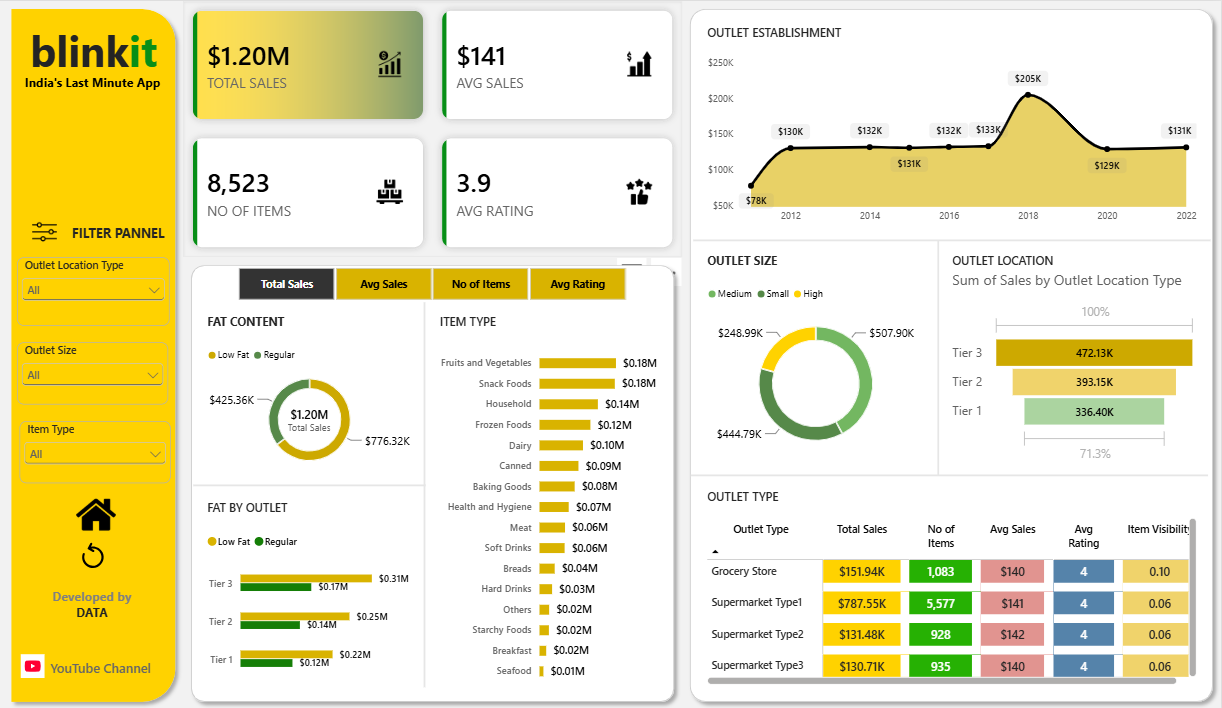

This screenshot's page, from the dashboard's own definition file:
{"tool":"powerbi","page":{"name":"Page 1","canvas":[1410,810],"ordinal":0},"visuals":[{"type":"shape","box":[18.6,0,205.7,810],"z":0},{"type":"textbox","box":[35.7,22.9,172.6,72],"z":1000},{"type":"textbox","box":[31.4,82.9,178.6,24],"z":2000},{"type":"cardVisual","fields":{"Data":["BlinkIT Grocery Data.Total Sales","BlinkIT Grocery Data.Average Sales","BlinkIT Grocery Data.No of Items","BlinkIT Grocery Data.Average Rating"]},"box":[224.3,0,570,292.9],"z":3000},{"type":"shape","box":[224.3,292.9,570,517.1],"z":4000},{"type":"donutChart","title":"FAT CONTENT","fields":{"Y":["BlinkIT Grocery Data.Total Sales"],"Category":["BlinkIT Grocery Data.Item Fat Content"]},"box":[235.7,342.9,265.7,212.9],"z":5000},{"type":"slicer","fields":{"Values":["Matrices.Matrices"]},"box":[267.1,302.9,481.4,40],"z":6000},{"type":"cardVisual","fields":{"Data":["BlinkIT Grocery Data.Total Sales"]},"box":[315.7,450,105.7,58.6],"z":7000},{"type":"clusteredBarChart","title":"FAT BY OUTLET","fields":{"Y":["BlinkIT Grocery Data.Total Sales"],"Category":["BlinkIT Grocery Data.Outlet Location Type"],"Series":["BlinkIT Grocery Data.Item Fat Content"]},"box":[235.7,555.7,265.7,241.4],"z":8000},{"type":"shape","box":[235.7,542.9,265.7,21.4],"z":9000},{"type":"shape","box":[490,344.3,20,440],"z":10000},{"type":"barChart","title":"ITEM TYPE","fields":{"Y":["BlinkIT Grocery Data.Total Sales"],"Category":["BlinkIT Grocery Data.Item Type"]},"box":[501.4,342.9,280,454.3],"z":11000},{"type":"shape","box":[794.3,0,615.7,810],"z":12000},{"type":"lineChart","title":"OUTLET ESTABLISHMENT","fields":{"Y":["BlinkIT Grocery Data.Total Sales"],"Category":["BlinkIT Grocery Data.Outlet Establishment Year"]},"box":[807.1,12.9,591.4,260],"z":13000},{"type":"shape","box":[807.1,262.9,591.4,21.4],"z":14000},{"type":"donutChart","title":"OUTLET SIZE","fields":{"Y":["BlinkIT Grocery Data.Total Sales"],"Category":["BlinkIT Grocery Data.Outlet Size"]},"box":[807.1,272.9,280,270],"z":15000},{"type":"funnel","title":"OUTLET LOCATION","fields":{"Y":["Sum(BlinkIT Grocery Data.Sales)"],"Category":["BlinkIT Grocery Data.Outlet Location Type"]},"box":[1087.1,272.9,311.4,270],"z":16000},{"type":"pivotTable","title":"OUTLET TYPE","fields":{"Rows":["BlinkIT Grocery Data.Outlet Type"],"Values":["BlinkIT Grocery Data.Total Sales","BlinkIT Grocery Data.No of Items","BlinkIT Grocery Data.Avg Sales","BlinkIT Grocery Data.Avg Rating","Avg(BlinkIT Grocery Data.Item Visibility)"]},"box":[807.1,542.9,591.4,254.3],"z":17000},{"type":"shape","box":[804.3,531.4,591.4,21.4],"z":18000},{"type":"shape","box":[1074.3,274.3,25.7,268.6],"z":19000},{"type":"slicer","fields":{"Values":["BlinkIT Grocery Data.Outlet Location Type"]},"box":[34.3,292.9,174.3,78.6],"z":20000},{"type":"slicer","fields":{"Values":["BlinkIT Grocery Data.Outlet Size"]},"box":[34.3,390,172.9,71.4],"z":21000},{"type":"slicer","fields":{"Values":["BlinkIT Grocery Data.Item Type"]},"box":[37.1,480,172.9,71.4],"z":22000},{"type":"textbox","box":[92.9,254.3,114.3,35.7],"z":23000},{"type":"image","box":[38.6,248.6,54.3,30],"z":24000},{"type":"image","box":[98.6,564.3,51.4,45.7],"z":25000},{"type":"image","box":[92.9,610,57.1,47.1],"z":26000},{"type":"textbox","box":[65.7,670,108.6,42.9],"z":27000},{"type":"image","box":[38.6,745.7,27.1,28.6],"z":28000},{"type":"textbox","box":[52.9,751.4,154.3,22.9],"z":29000}]}

Visuals, with their boxes in screenshot pixels (x1, y1, x2, y2), scaled from the page's 1410x810 canvas onto the 1222x708 screenshot:
shape: bbox=[16, 0, 194, 707]
textbox: bbox=[31, 20, 181, 83]
textbox: bbox=[27, 72, 182, 93]
cardVisual - BlinkIT Grocery Data.Total Sales x BlinkIT Grocery Data.Average Sales: bbox=[194, 0, 688, 256]
shape: bbox=[194, 256, 688, 707]
"FAT CONTENT" donutChart: bbox=[204, 300, 435, 486]
slicer - Matrices.Matrices: bbox=[231, 265, 649, 300]
cardVisual - BlinkIT Grocery Data.Total Sales: bbox=[274, 393, 365, 445]
"FAT BY OUTLET" clusteredBarChart: bbox=[204, 486, 435, 697]
shape: bbox=[204, 475, 435, 493]
shape: bbox=[425, 301, 442, 686]
"ITEM TYPE" barChart: bbox=[435, 300, 677, 697]
shape: bbox=[688, 0, 1221, 707]
"OUTLET ESTABLISHMENT" lineChart: bbox=[699, 11, 1212, 239]
shape: bbox=[699, 230, 1212, 248]
"OUTLET SIZE" donutChart: bbox=[699, 239, 942, 475]
"OUTLET LOCATION" funnel: bbox=[942, 239, 1212, 475]
"OUTLET TYPE" pivotTable: bbox=[699, 475, 1212, 697]
shape: bbox=[697, 464, 1210, 483]
shape: bbox=[931, 240, 953, 475]
slicer - BlinkIT Grocery Data.Outlet Location Type: bbox=[30, 256, 181, 325]
slicer - BlinkIT Grocery Data.Outlet Size: bbox=[30, 341, 180, 403]
slicer - BlinkIT Grocery Data.Item Type: bbox=[32, 420, 182, 482]
textbox: bbox=[81, 222, 180, 253]
image: bbox=[33, 217, 81, 244]
image: bbox=[85, 493, 130, 533]
image: bbox=[81, 533, 130, 574]
textbox: bbox=[57, 586, 151, 623]
image: bbox=[33, 652, 57, 677]
textbox: bbox=[46, 657, 180, 677]
